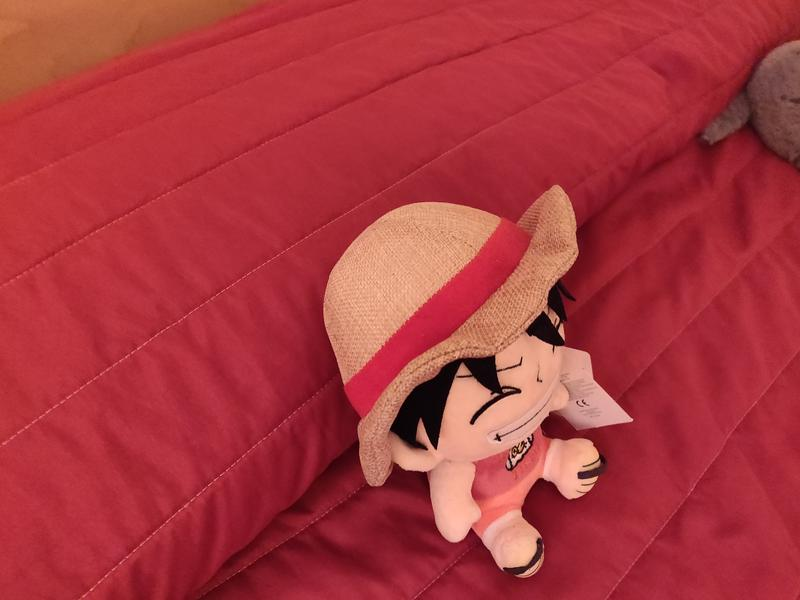rufy: (278, 178, 662, 574)
